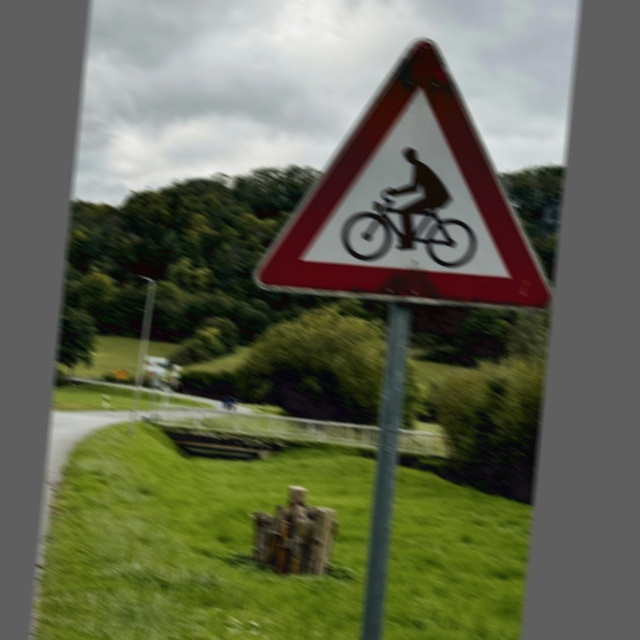Cycle_Crossing: (252, 25, 565, 311)
